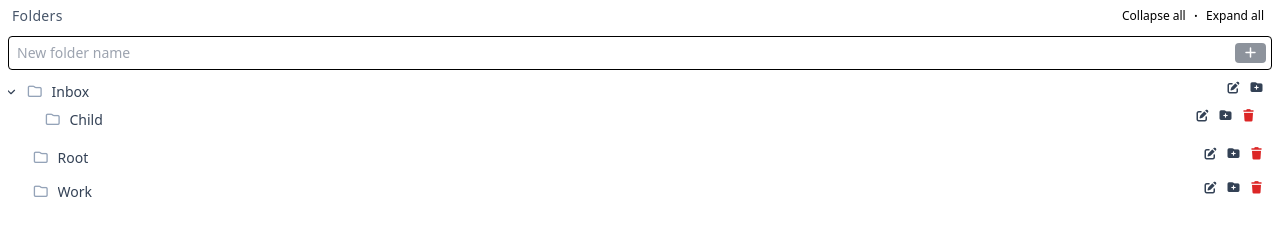
Test: Sidebar › can start creating a subfolder
Click the button named "new-subfolder-root": point(1234, 154) [1226,148,1241,160]
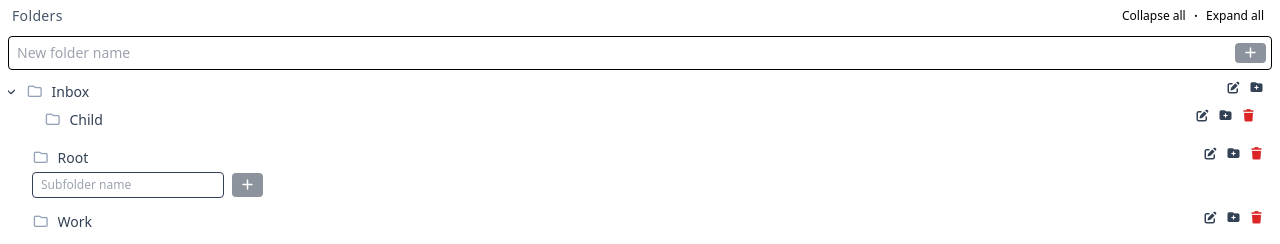
Expected: the field named "new-subfolder-name-root" is shown, [32,172,224,198]
